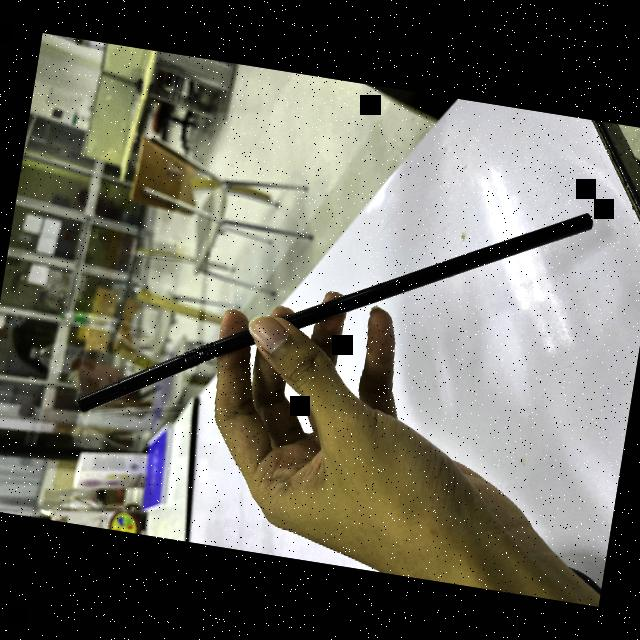straw: (72, 136, 602, 492)
